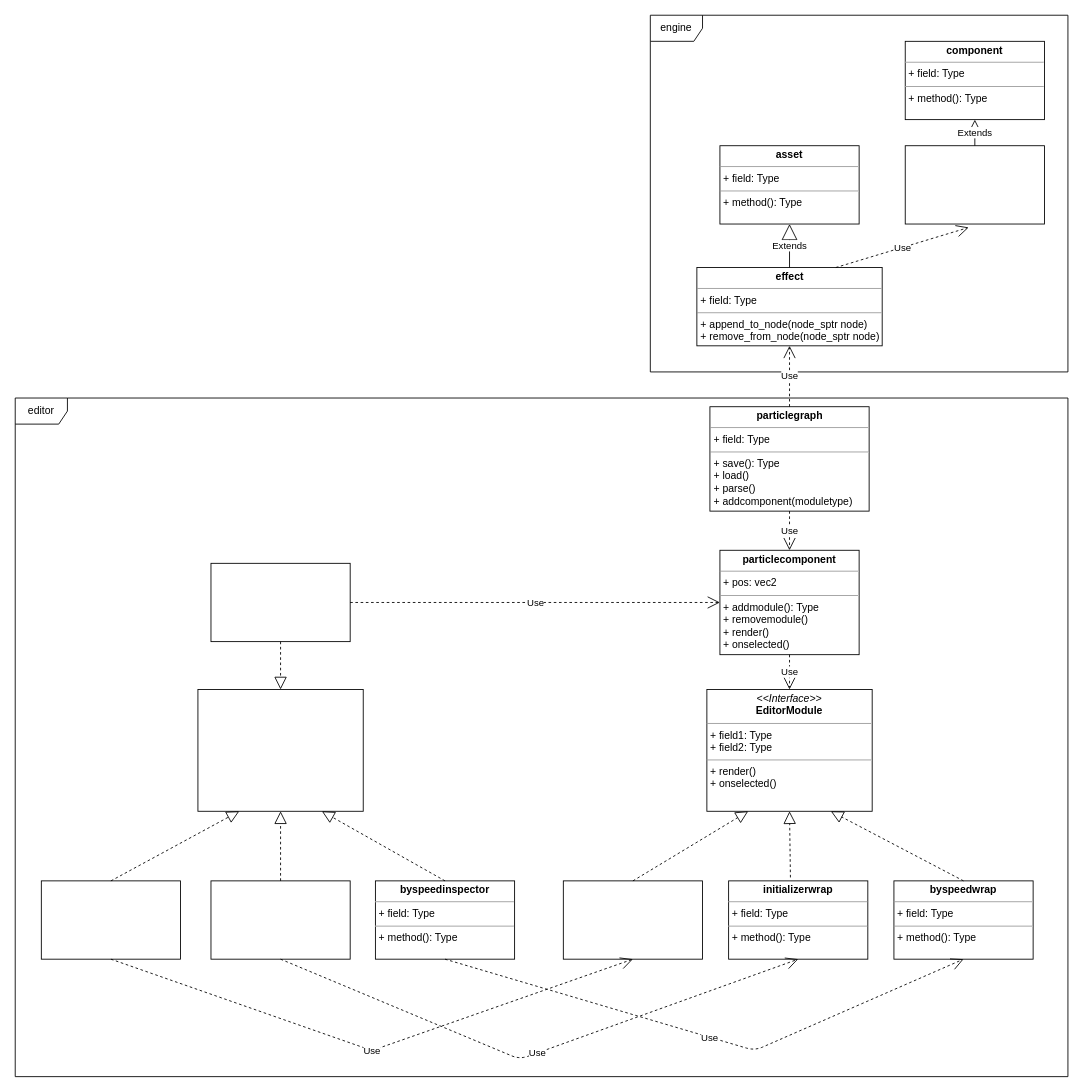
The diagram is 1083 pixels wide and 1092 high, and some of its shapes have lost their labels. Each missing label, with the centre of its shape:
"<<Interface>> Inspector + field1: Type + field2: Type + render()" belongs at point (280, 750).
"componentinspector + field: Type + method(): Type" belongs at point (280, 602).
"initializerinspector + field: Type + method(): Type" belongs at point (280, 919).
"overlifeinspector + field: Type + method(): Type" belongs at point (110, 919).
"overlifewrap + field: Type + method(): Type" belongs at point (632, 919).
"particle + field: Type + method(): Type" belongs at point (974, 184).
